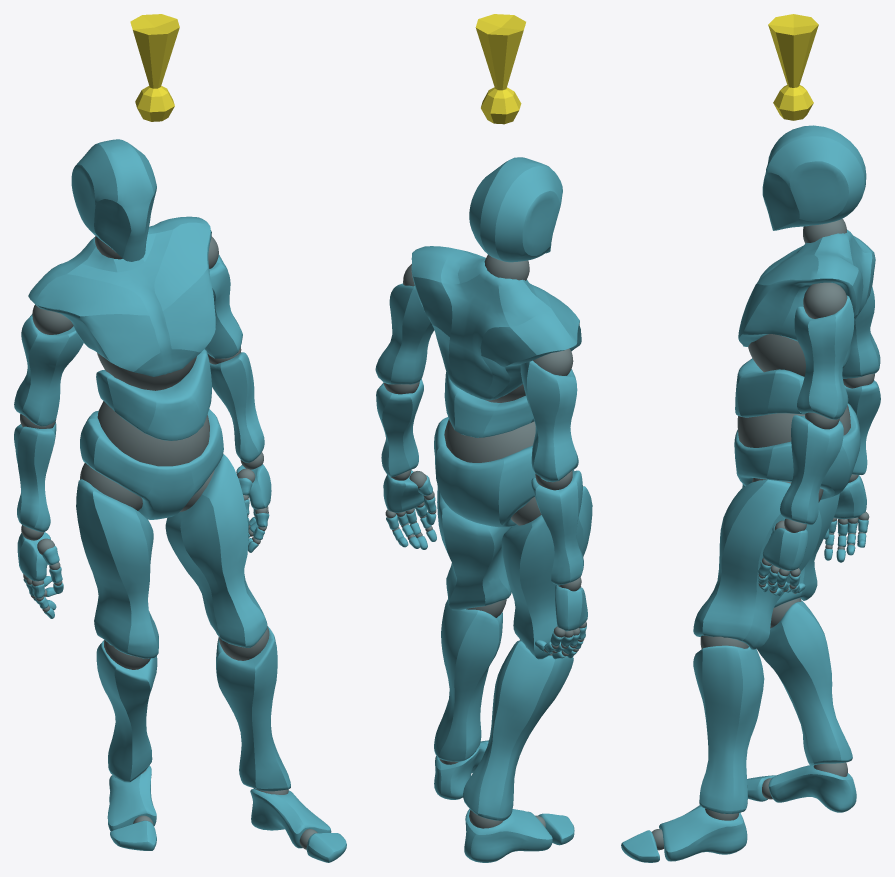
File: defaultcharacter.glb
3 renders of one model, left to right at view 1: azimuth 30°, elevation 25°; view 2: azimuth 150°, elevation 25°; view 3: azimuth 270°, elevation 25°, orthographic. The views are drawn at different scales.
Parts seen in each view (by area): view 1: VISUAL_body, ICON_interact; view 2: VISUAL_body, ICON_interact; view 3: VISUAL_body, ICON_interact.
Boxes of the visible parts, x1,y1,x2,y2 form: VISUAL_body: [14, 139, 346, 862]; ICON_interact: [130, 14, 179, 121]; VISUAL_body: [375, 157, 592, 862]; ICON_interact: [475, 14, 525, 124]; VISUAL_body: [621, 125, 880, 862]; ICON_interact: [768, 14, 818, 120].
Size of what is drawn, in the model's own units: 0.6245 by 2.13 by 0.6372.
